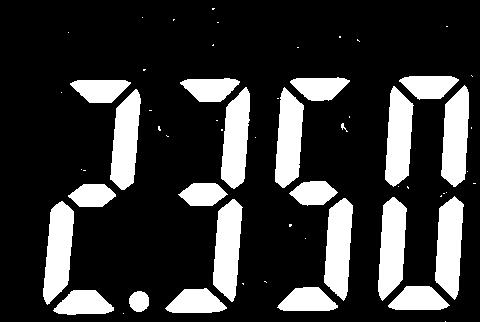0: (377, 76, 471, 317)
2: (39, 76, 143, 315)
3: (163, 73, 252, 317)
5: (271, 74, 358, 314)
dot: (127, 286, 151, 314)
